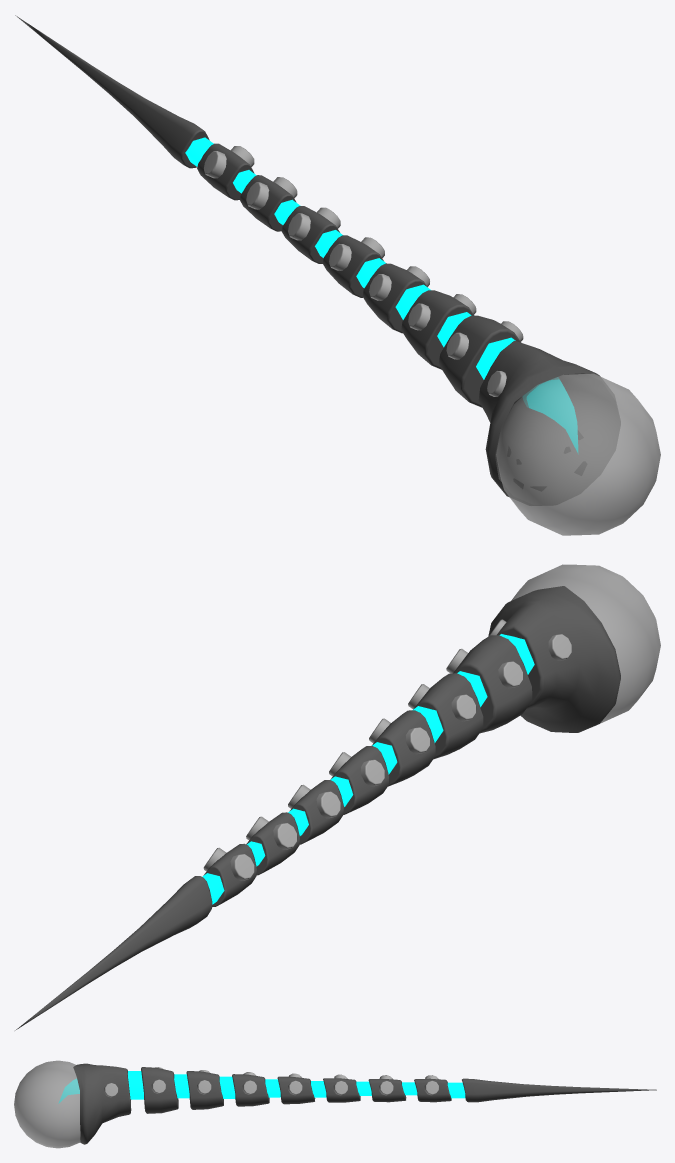
The model's file is ai_core.fbx.
3 views of the same model, one above another, from view 1: azimuth 30°, elevation 25°; view 2: azimuth 150°, elevation 25°; view 3: azimuth 270°, elevation 25° (orthographic). The views are drawn at different scales.
Parts seen in each view (by area): view 1: spine, brain, plugs, spinal_cord; view 2: spine, brain, plugs, spinal_cord; view 3: spine, brain, spinal_cord, plugs.
Part boxes in pixels (x1,y1,x2,y2): spine: [15, 15, 615, 497]; brain: [496, 373, 660, 535]; plugs: [204, 146, 559, 396]; spinal_cord: [185, 137, 577, 452]; spine: [15, 586, 620, 1030]; brain: [511, 564, 660, 723]; plugs: [203, 619, 571, 880]; spinal_cord: [202, 634, 534, 904]; spine: [73, 1063, 656, 1144]; brain: [14, 1060, 80, 1148]; spinal_cord: [58, 1071, 465, 1103]; plugs: [104, 1067, 438, 1097].
Bounding box in the file's own units: 13.77 × 13.77 × 101.
